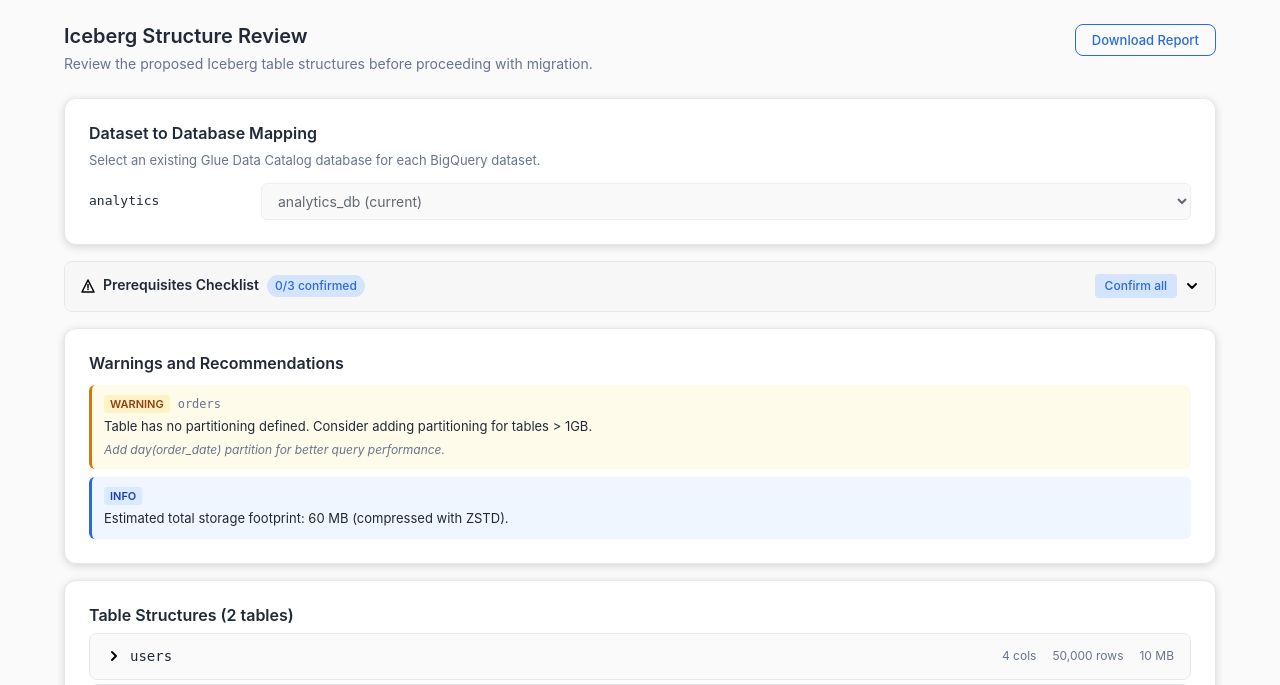
Scenario: IcebergStructureReviewPage › clicking table header expands the section
This screenshot has width=1280, height=685.
Expected: the text "users" is shown, [130,646,172,666]
Step 1. Click the button with aria-label "Toggle users details" → (151,656), box [90,634,1190,678]
(page scrolled)
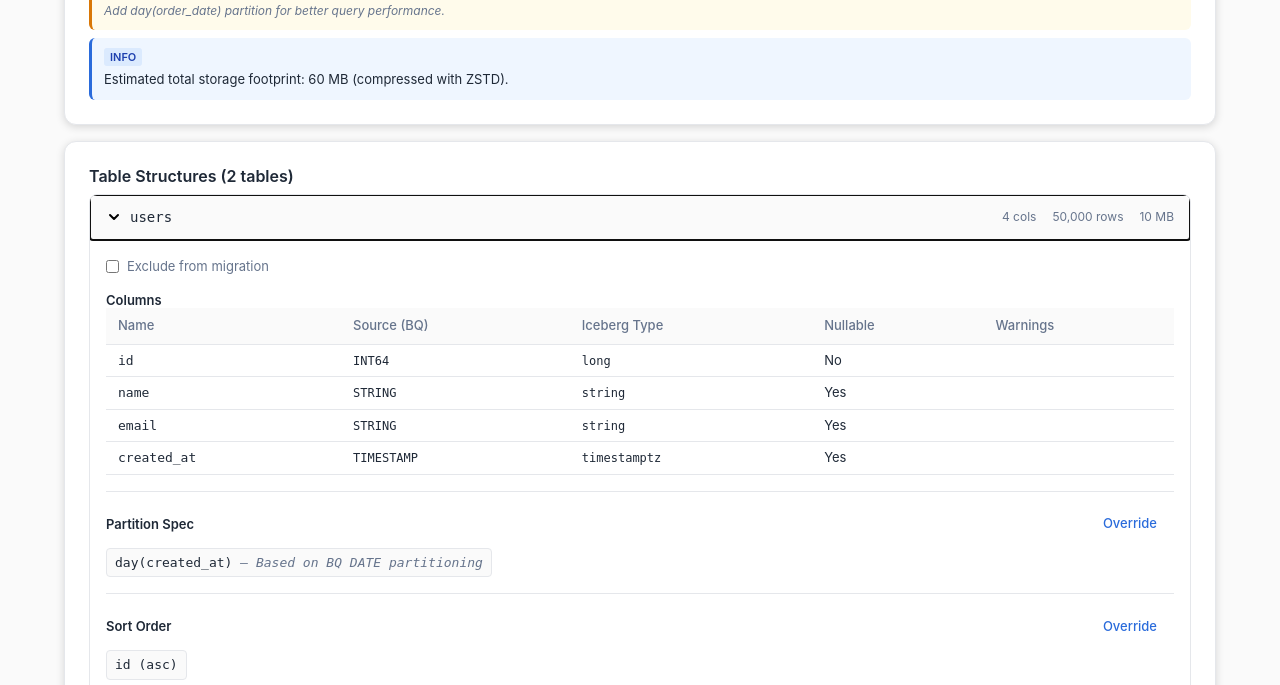
Now the text "id" is shown, box [106,344,341,377]
Now the text "INT64" is shown, box [341,344,570,377]
Now the text "long" is shown, box [570,344,812,377]
